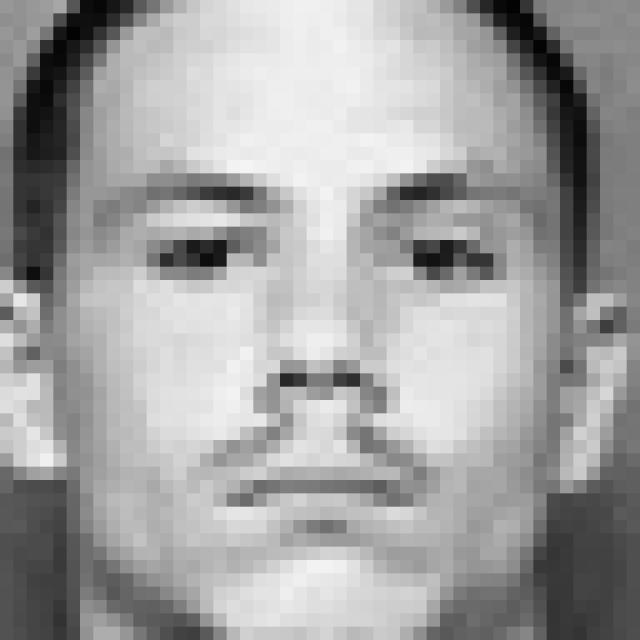neutral: (90, 157, 531, 556)
